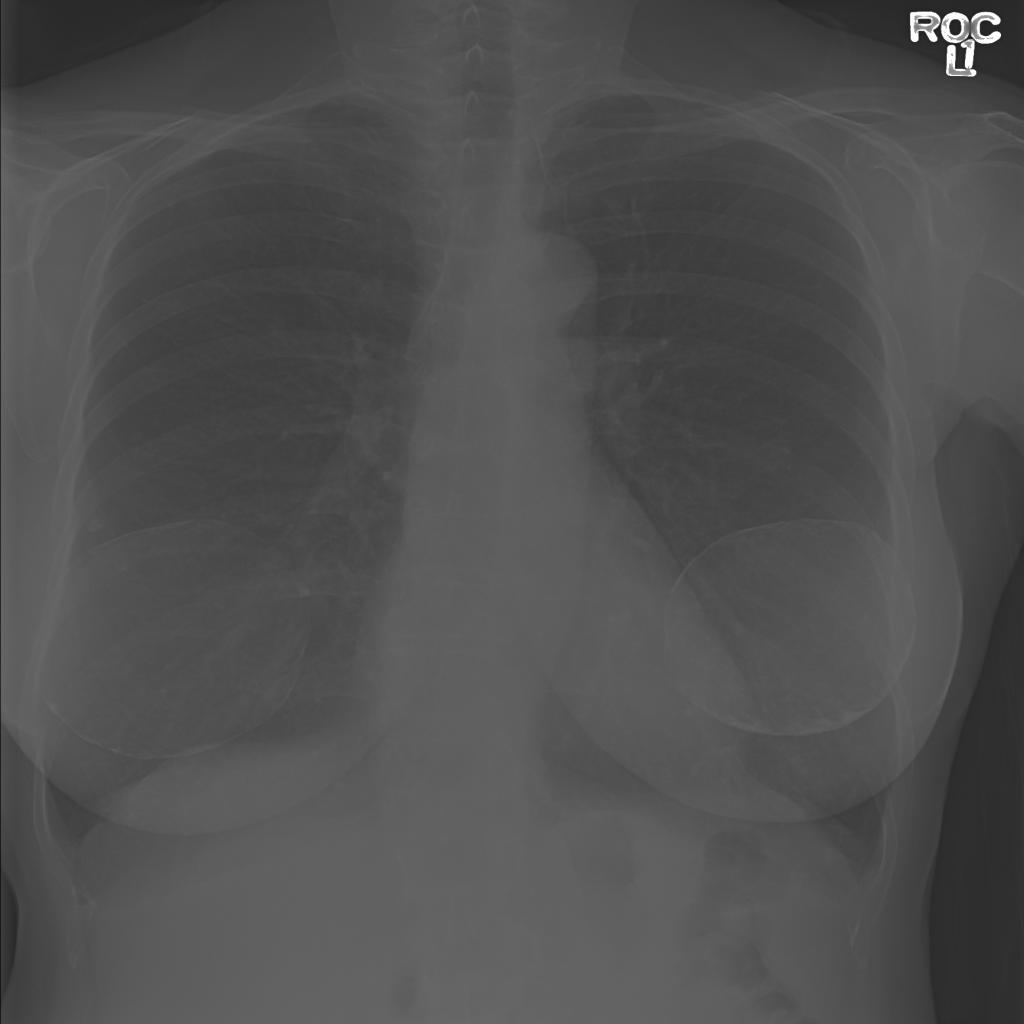Nodule: (337, 170, 370, 195)
